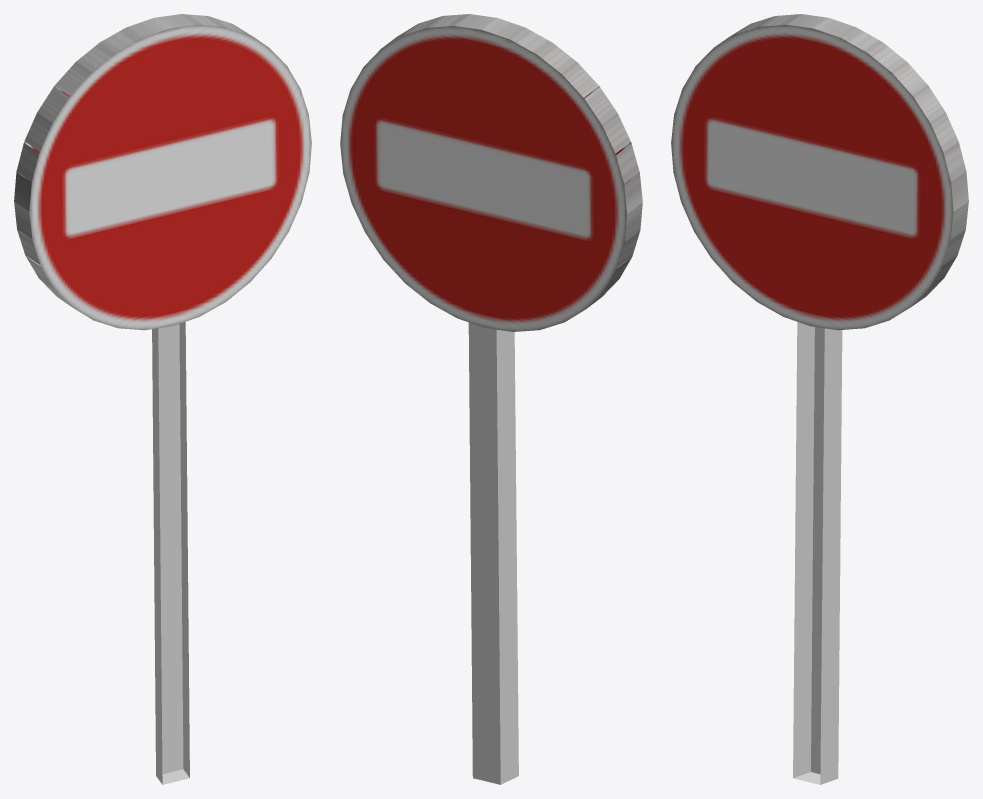
File: block.dae
The picture shows the model from 3 angles, left to right: view 1: azimuth 30°, elevation 25°; view 2: azimuth 150°, elevation 25°; view 3: azimuth 330°, elevation 25°; orthographic projection.
Parts seen in each view (by area): view 1: Cycle, Xui; view 2: Cycle, Xui; view 3: Cycle, Xui.
Part boxes in pixels (x1,y1,x2,y2): Cycle: [14, 14, 311, 330]; Xui: [152, 322, 189, 784]; Cycle: [340, 14, 642, 331]; Xui: [468, 322, 518, 784]; Cycle: [671, 14, 968, 330]; Xui: [793, 322, 842, 784].
Bounding box in the file's own units: 0.2554 × 0.0352 × 0.6471.
Materials: 1 (1 with a texture image).
